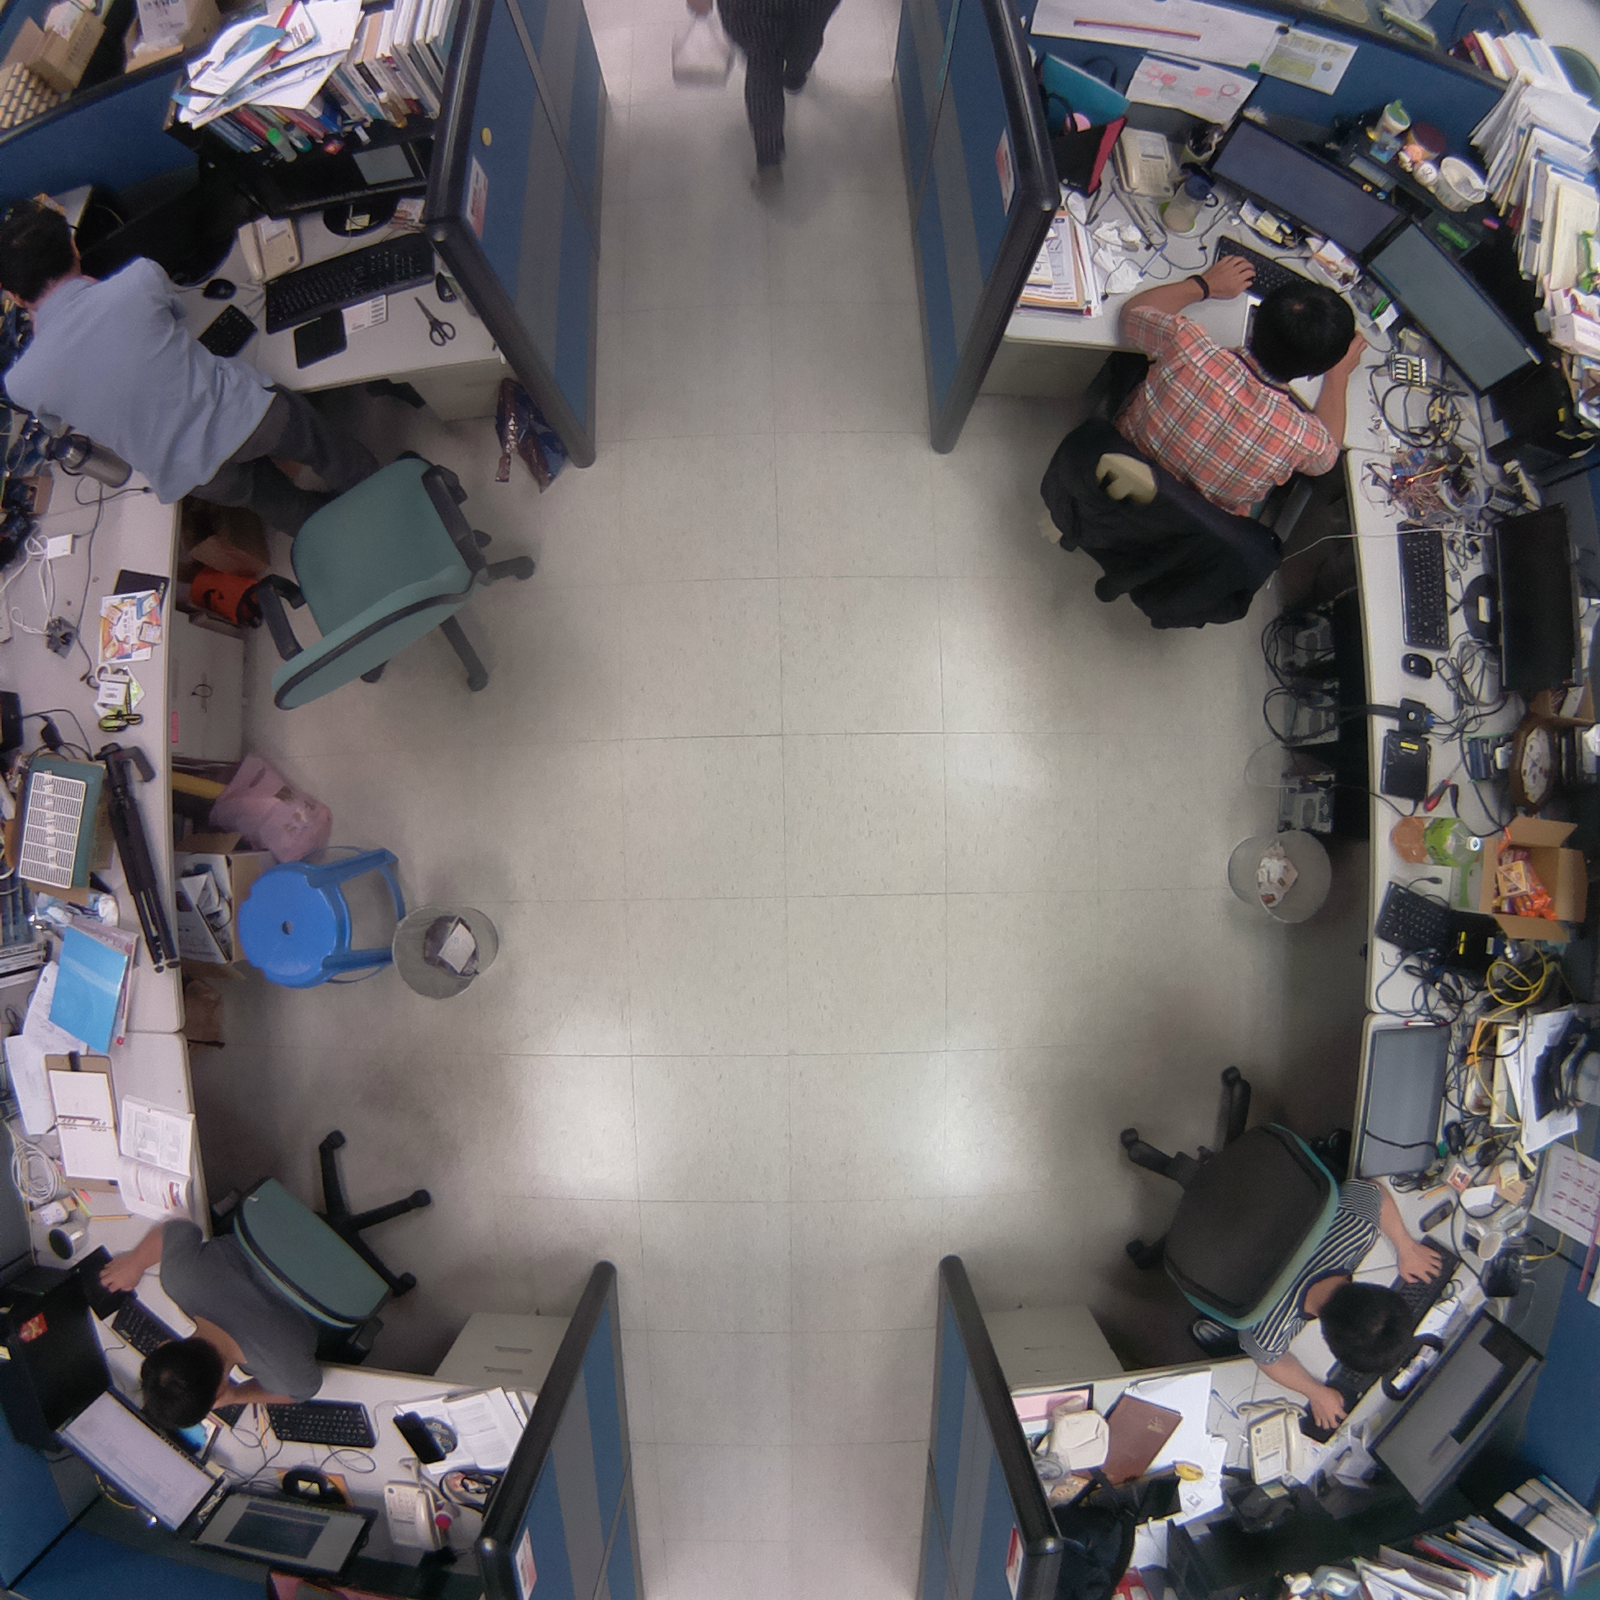chair: (235, 440, 555, 742)
head: (1245, 272, 1363, 387), (1320, 1273, 1426, 1387), (131, 1328, 232, 1438), (1, 188, 81, 314)
sitting: (1024, 218, 1364, 647), (1101, 1047, 1447, 1435), (88, 1114, 442, 1440)
standing: (1, 183, 387, 540)
